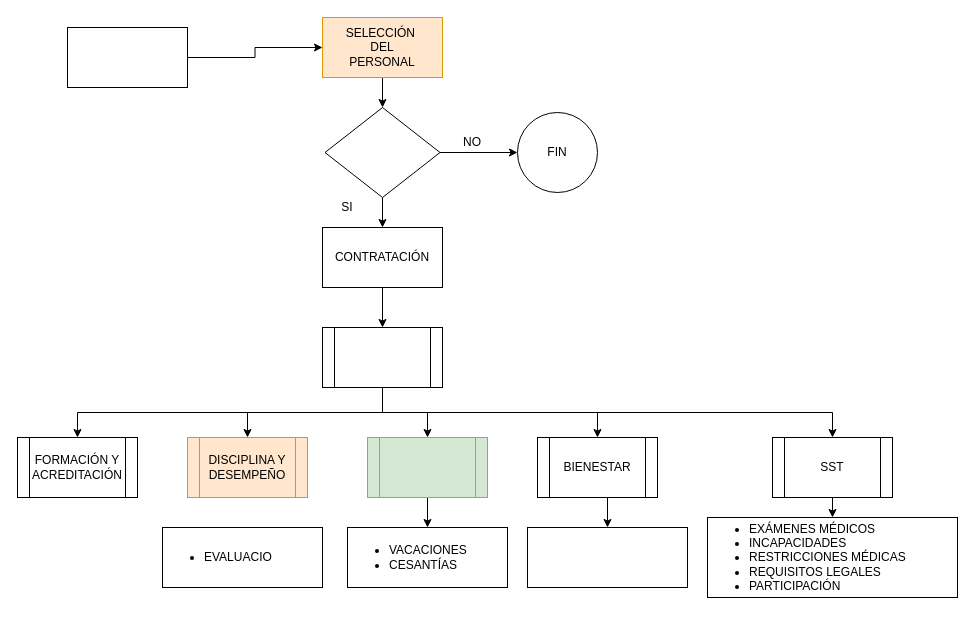
The diagram is 975 pixels wide and 623 high, and some of its shapes have lost their labels. The box of each missing label's shape, as (x1, y1, x2, y2) in pixels:
ACREDITACIÓN: (322, 326, 442, 388)
CANDIDATO APTO: (324, 106, 440, 198)
INFORME DE APOYO PARTICIPACION: (526, 526, 688, 588)
NÓMINA Y VACACIONES: (366, 436, 488, 498)
REQUERIMIENTO DEL PERSONAL: (66, 26, 188, 88)
